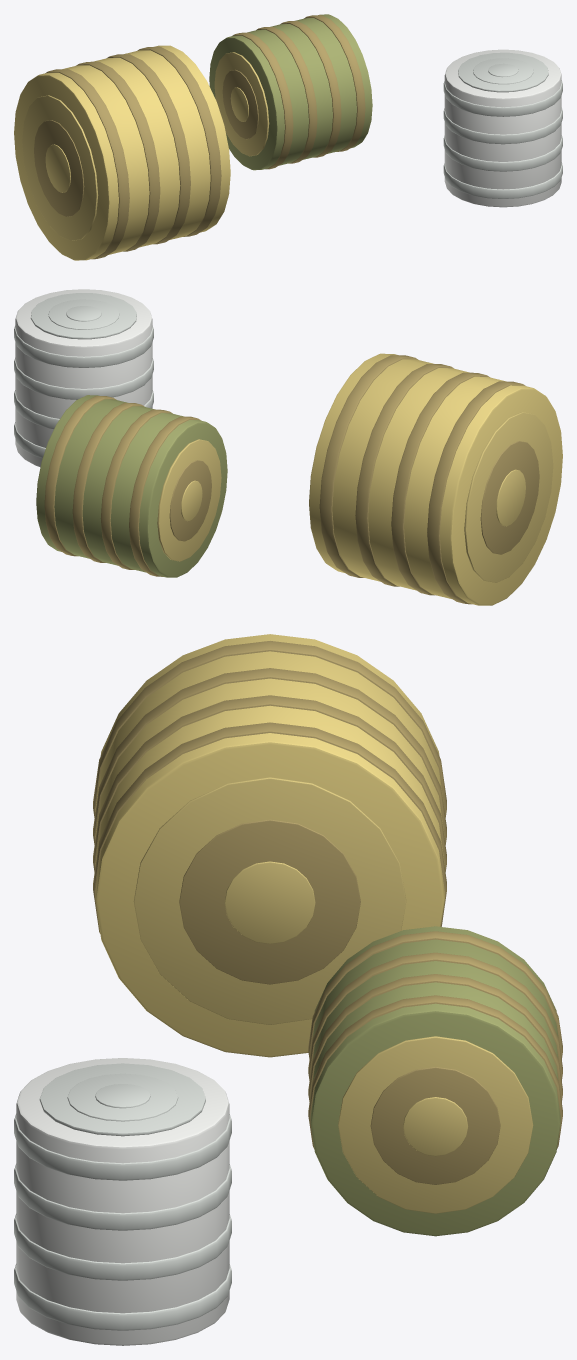
Rendered from th18_heuballen.glb.
3 renders of one model, top to bottom at view 1: azimuth 30°, elevation 25°; view 2: azimuth 150°, elevation 25°; view 3: azimuth 270°, elevation 25°, orthographic. The views are drawn at different scales.
Parts seen in each view (by area): view 1: Cylinder, Cylinder.011, Cylinder.022, Cylinder.005, Cylinder.006, Cylinder.016, Cylinder.004, Cylinder.002, Cylinder.001, Cylinder.003, Cylinder.030, Cylinder.017 (+12 smaller); view 2: Cylinder, Cylinder.011, Cylinder.022, Cylinder.005, Cylinder.006, Cylinder.016, Cylinder.002, Cylinder.004, Cylinder.001, Cylinder.003, Cylinder.030, Cylinder.017 (+11 smaller); view 3: Cylinder, Cylinder.022, Cylinder.011, Cylinder.008, Cylinder.009, Cylinder.019, Cylinder.020, Cylinder.010, Cylinder.030, Cylinder.004, Cylinder.001, Cylinder.003 (+12 smaller).
Boxes of the visible parts, bbox=[...] form: Cylinder: bbox=[14, 45, 230, 260]; Cylinder.011: bbox=[209, 14, 372, 170]; Cylinder.022: bbox=[444, 49, 561, 207]; Cylinder.005: bbox=[22, 95, 98, 240]; Cylinder.006: bbox=[34, 120, 84, 216]; Cylinder.016: bbox=[214, 52, 269, 156]; Cylinder.004: bbox=[137, 46, 221, 236]; Cylinder.002: bbox=[76, 61, 160, 251]; Cylinder.001: bbox=[45, 69, 129, 259]; Cylinder.003: bbox=[107, 54, 190, 244]; Cylinder.030: bbox=[458, 52, 548, 92]; Cylinder.017: bbox=[222, 69, 258, 139]; Cylinder: bbox=[309, 353, 562, 605]; Cylinder.011: bbox=[36, 395, 227, 577]; Cylinder.022: bbox=[15, 289, 152, 467]; Cylinder.005: bbox=[464, 412, 553, 582]; Cylinder.006: bbox=[480, 441, 539, 554]; Cylinder.016: bbox=[157, 439, 221, 561]; Cylinder.002: bbox=[391, 372, 489, 595]; Cylinder.004: bbox=[319, 355, 418, 577]; Cylinder.001: bbox=[427, 381, 525, 604]; Cylinder.003: bbox=[355, 364, 453, 586]; Cylinder.030: bbox=[30, 293, 136, 339]; Cylinder.017: bbox=[169, 460, 211, 541]; Cylinder: bbox=[95, 634, 444, 1057]; Cylinder.022: bbox=[16, 1058, 229, 1345]; Cylinder.011: bbox=[310, 926, 560, 1236]; Cylinder.008: bbox=[133, 777, 406, 1024]; Cylinder.009: bbox=[179, 819, 360, 984]; Cylinder.019: bbox=[338, 1036, 533, 1213]; Cylinder.020: bbox=[370, 1067, 500, 1184]; Cylinder.010: bbox=[224, 861, 315, 943]; Cylinder.030: bbox=[39, 1063, 205, 1136]; Cylinder.004: bbox=[93, 722, 446, 933]; Cylinder.001: bbox=[93, 641, 446, 817]; Cylinder.003: bbox=[93, 695, 446, 872].
Bounding box in the file's own units: 5.23 × 1.92 × 2.98.
